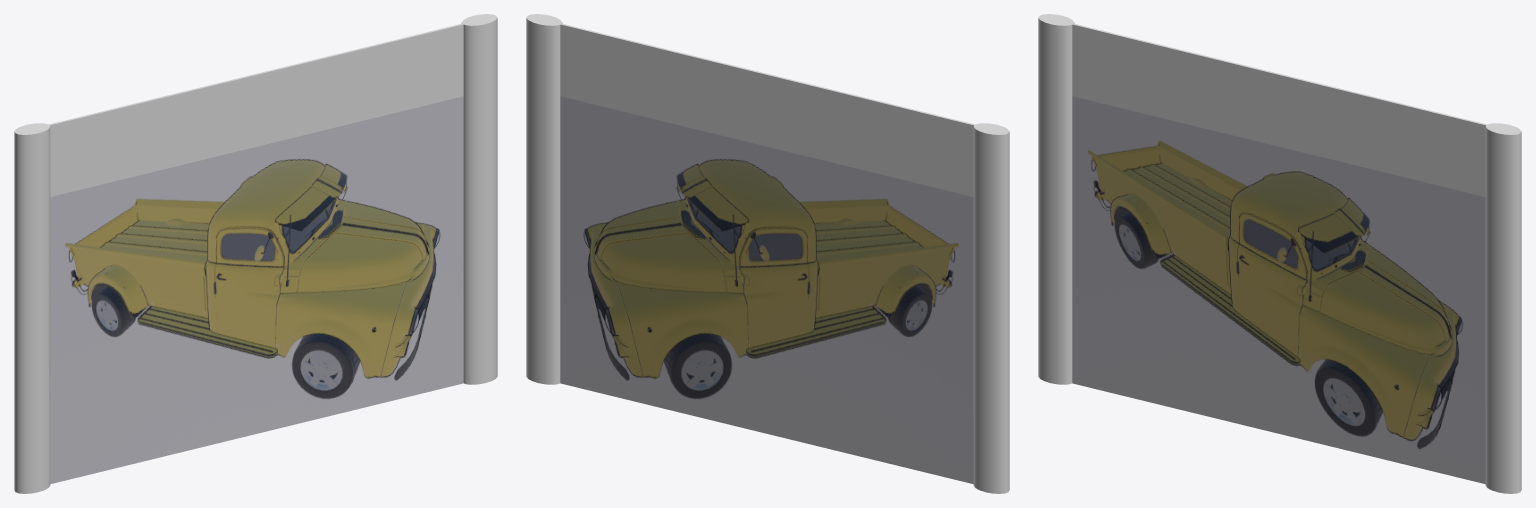
Rendered from image-gate-mini-truck.fbx.
3 renders of one model, left to right at view 1: azimuth 30°, elevation 25°; view 2: azimuth 150°, elevation 25°; view 3: azimuth 330°, elevation 25°, orthographic.
Visible parts, largest first — view 1: image-gate-mini-truck, upper-plane.007, cylinder-R.007, cylinder-L.007; view 2: image-gate-mini-truck, upper-plane.007, cylinder-R.007, cylinder-L.007; view 3: image-gate-mini-truck, upper-plane.007, cylinder-L.007, cylinder-R.007.
Part boxes in pixels (bbox=[...]): image-gate-mini-truck: bbox=[50, 96, 463, 484]; upper-plane.007: bbox=[40, 21, 471, 196]; cylinder-R.007: bbox=[14, 123, 50, 493]; cylinder-L.007: bbox=[461, 14, 497, 384]; image-gate-mini-truck: bbox=[560, 96, 973, 484]; upper-plane.007: bbox=[552, 21, 974, 196]; cylinder-R.007: bbox=[973, 123, 1009, 493]; cylinder-L.007: bbox=[526, 14, 562, 384]; image-gate-mini-truck: bbox=[1072, 96, 1485, 484]; upper-plane.007: bbox=[1064, 21, 1495, 196]; cylinder-L.007: bbox=[1485, 123, 1521, 493]; cylinder-R.007: bbox=[1038, 14, 1074, 384].
Size of the model in its own units: 4.36 by 3.11 by 0.183.
